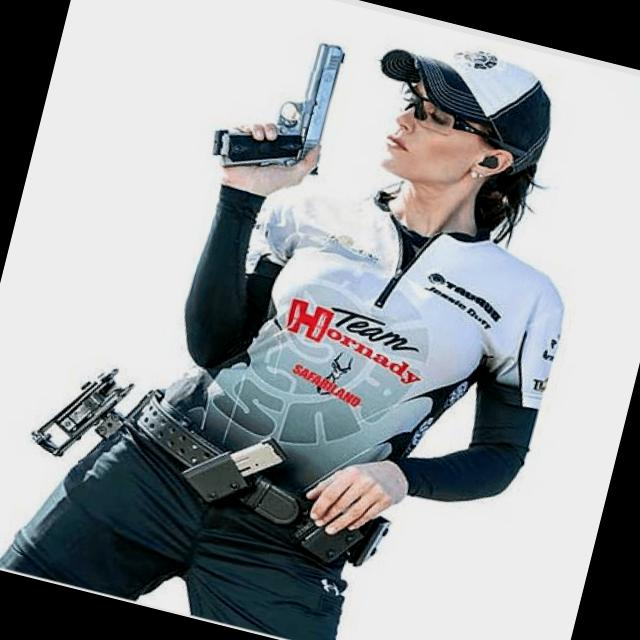handgun: (178, 9, 364, 188)
